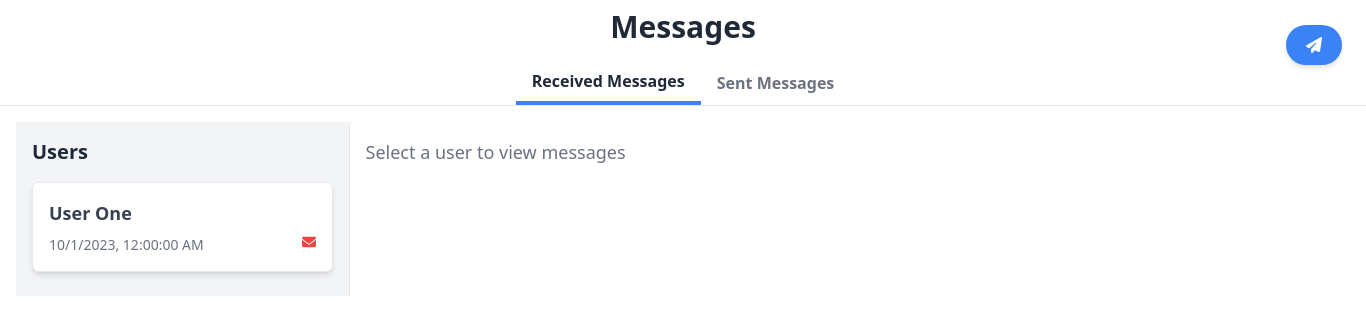
Test: ViewMessagesInstructor Component › displays user messages when a user is selected
This screenshot has width=1366, height=313.
Click the text "User One" at (90, 213), box top-left (49, 201), bottom-right (132, 225)
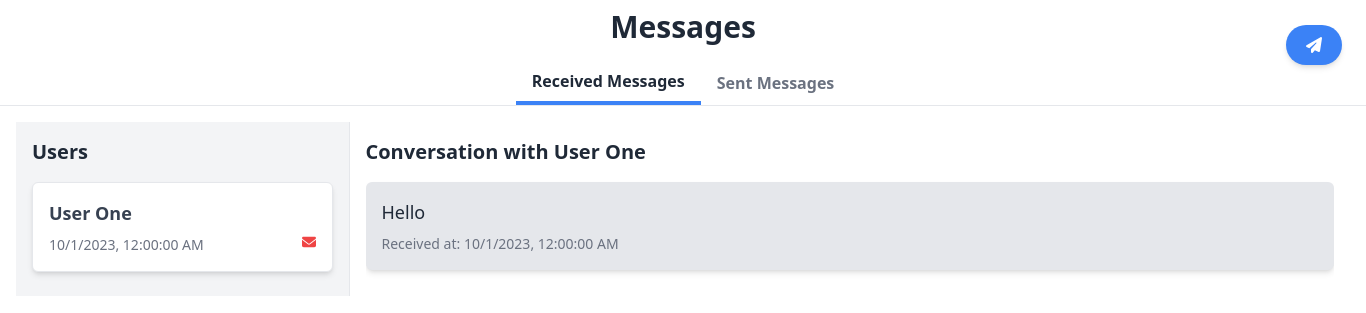
Now the heading "Conversation with User One" is shown, box top-left (366, 138), bottom-right (646, 165)
Now the text "Hello" is shown, box top-left (382, 200), bottom-right (425, 224)
